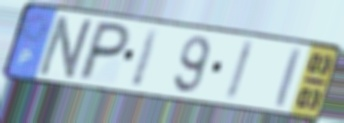9: (172, 34, 213, 96)
I: (222, 38, 257, 103), (128, 25, 163, 89), (274, 45, 304, 110)
N: (35, 14, 99, 83)
P: (74, 19, 134, 83)
